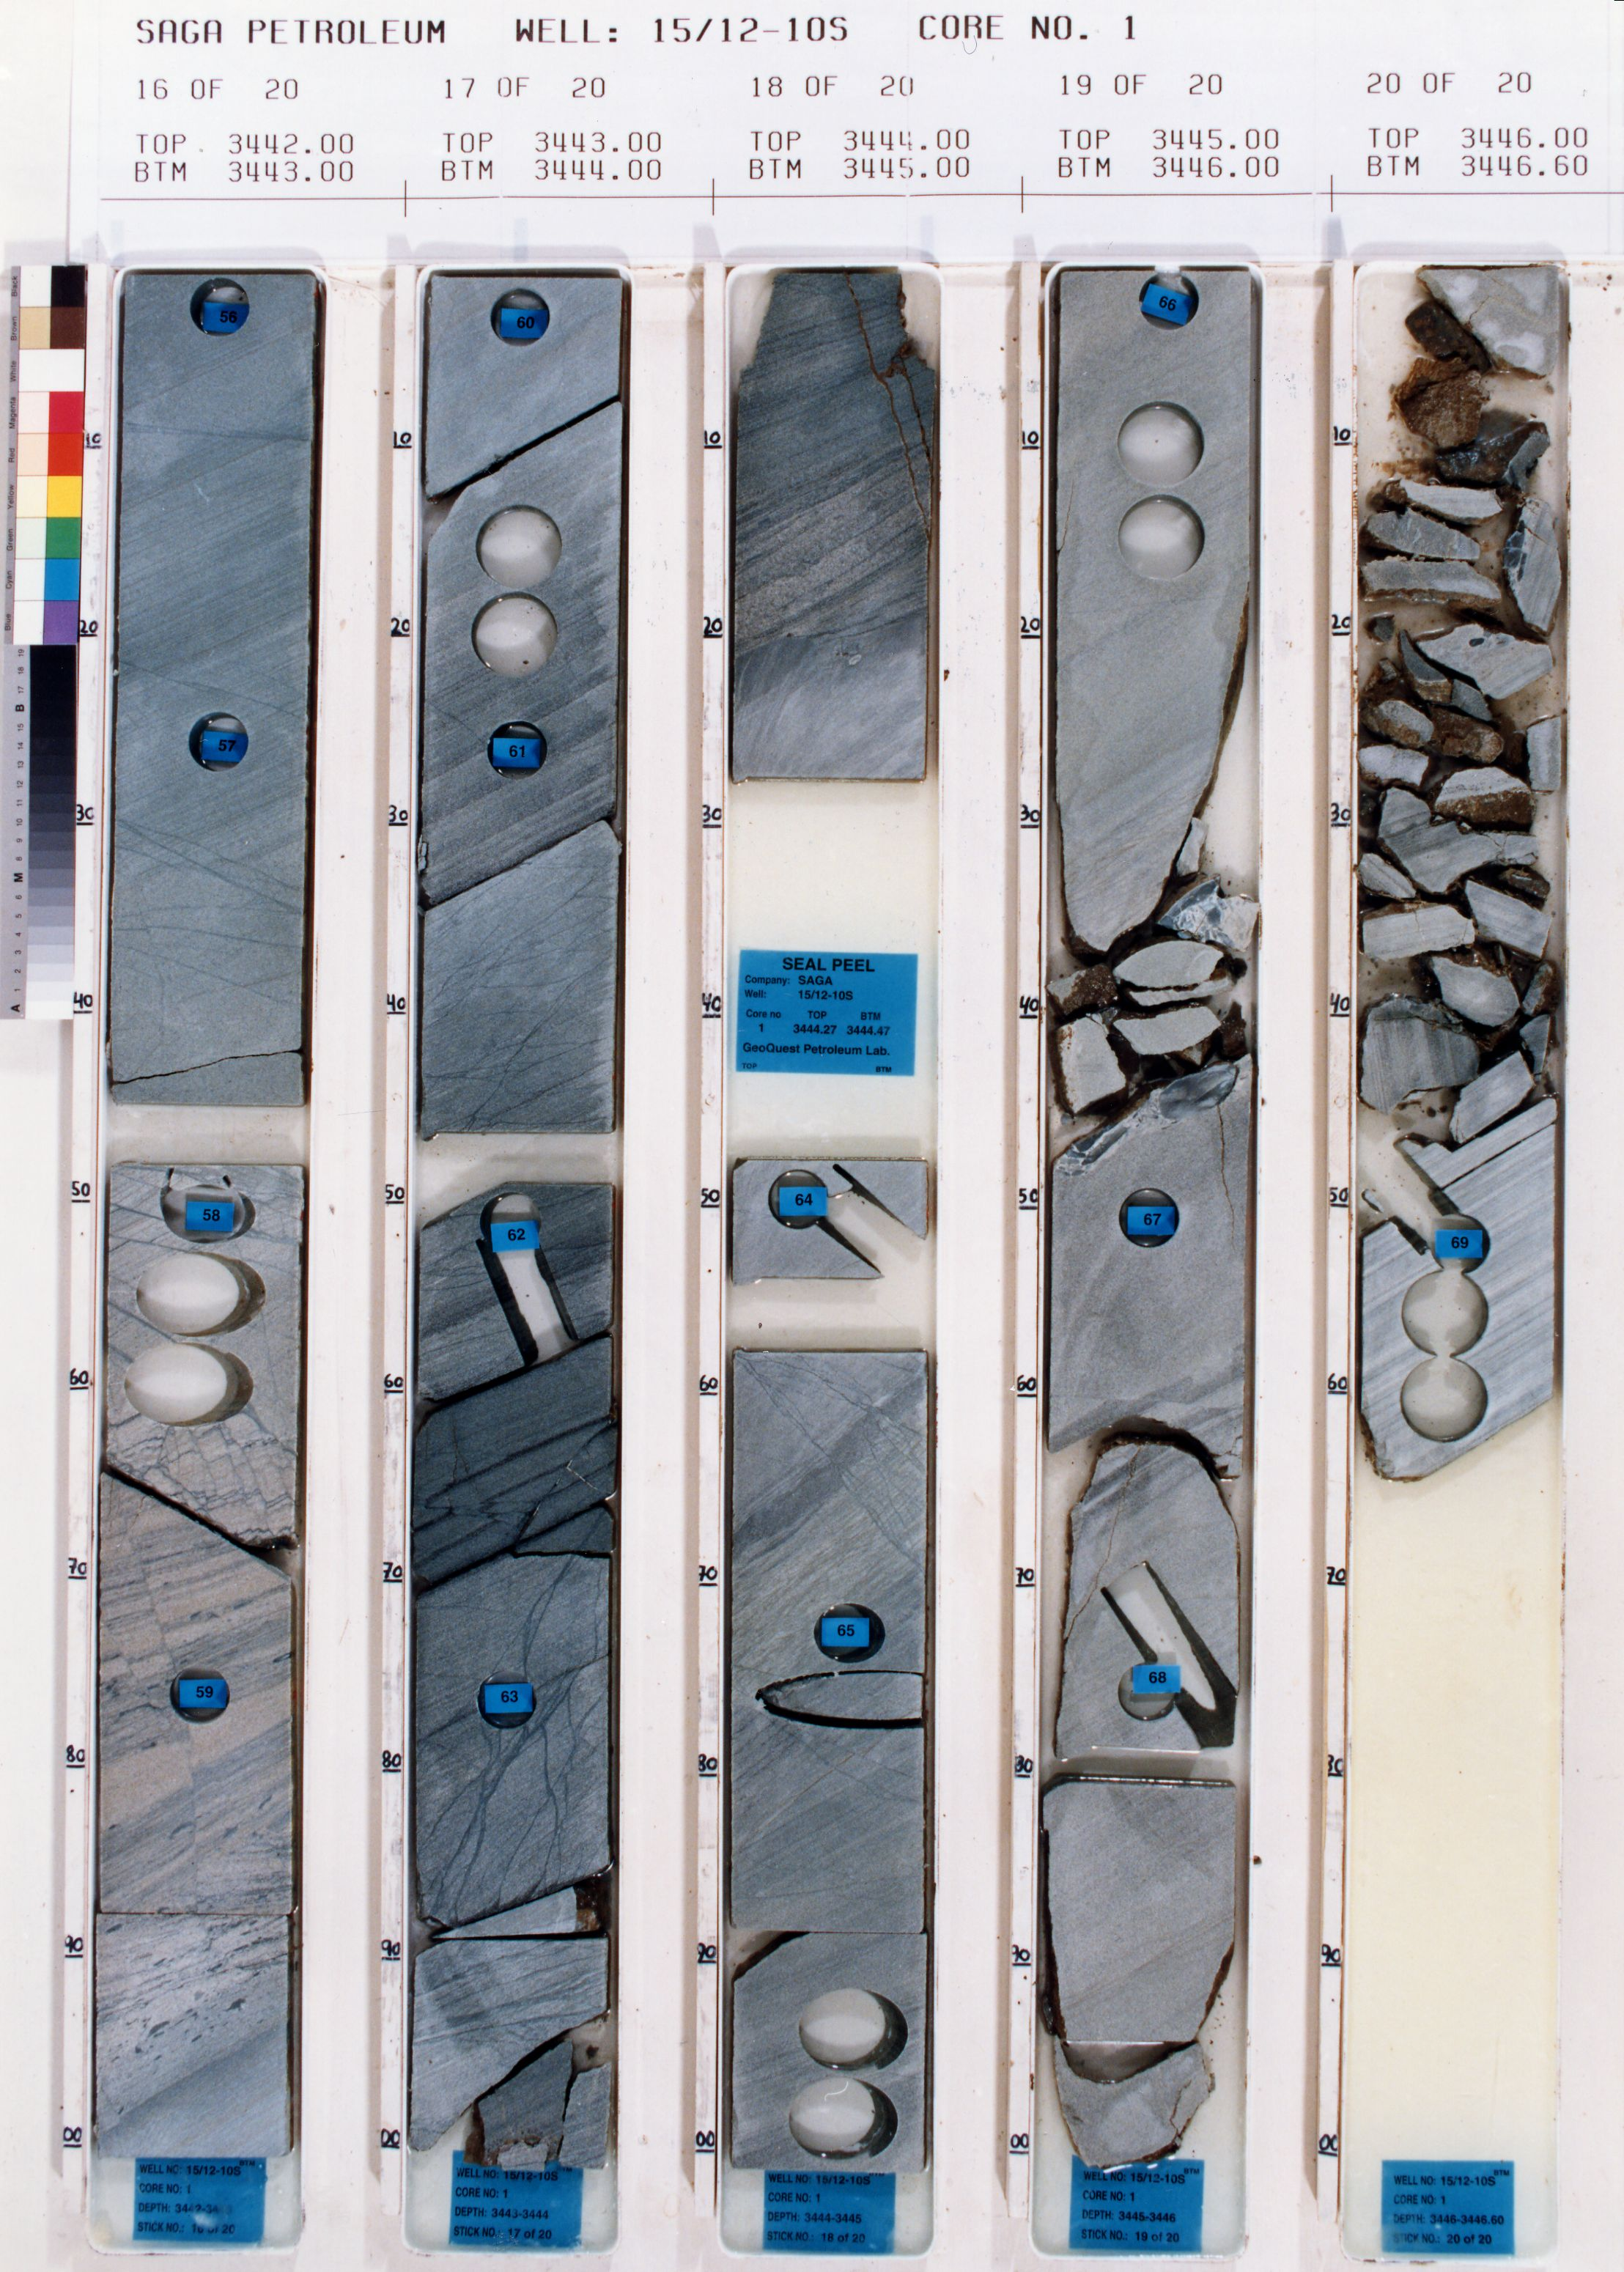core: (105, 269, 318, 2156), (1049, 269, 1241, 2163), (1357, 262, 1557, 1481), (728, 1158, 923, 2175), (411, 1181, 610, 2167), (418, 271, 622, 1140), (728, 274, 932, 778)
